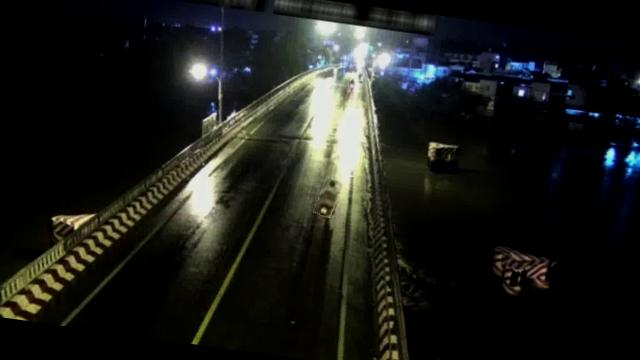Bike: (314, 176, 341, 218)
